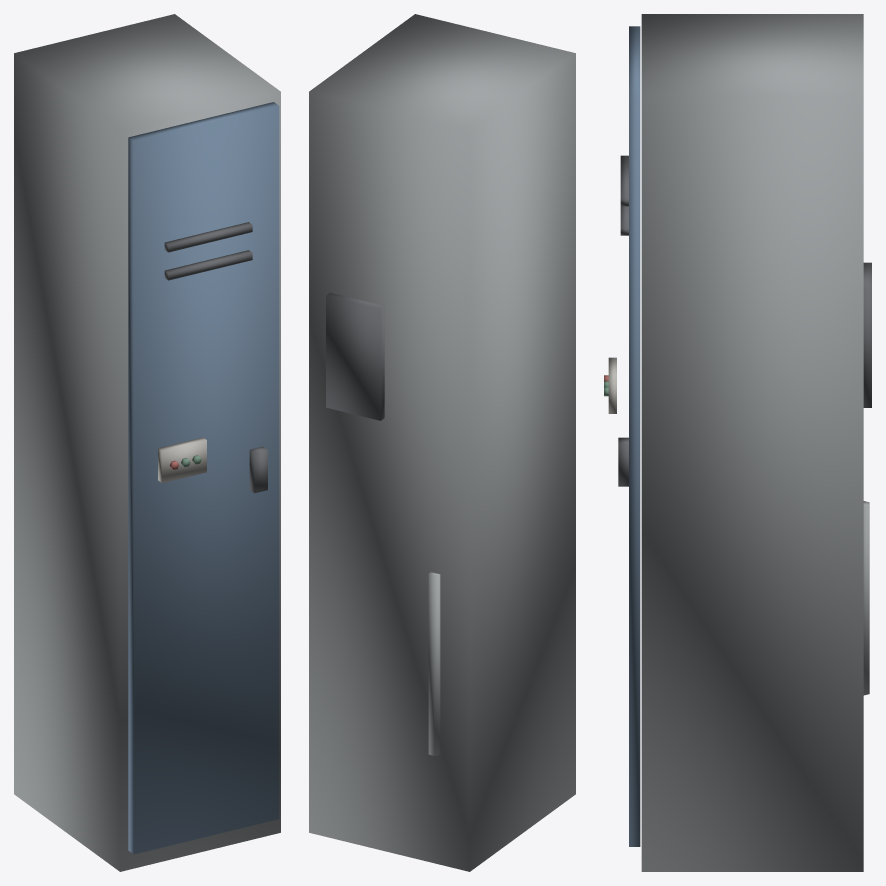
The model's file is single_locker__service.glb.
3 views of the same model, side by side, from view 1: azimuth 30°, elevation 25°; view 2: azimuth 150°, elevation 25°; view 3: azimuth 270°, elevation 25° (orthographic). The views are drawn at different scales.
Visible parts, largest first — view 1: world; view 2: world; view 3: world.
Part boxes in pixels (<box>): world: <box>14,14,280,871</box>; world: <box>309,14,575,871</box>; world: <box>604,14,871,871</box>.
Bounding box in the file's own units: 0.42 × 1.85 × 0.5785.
